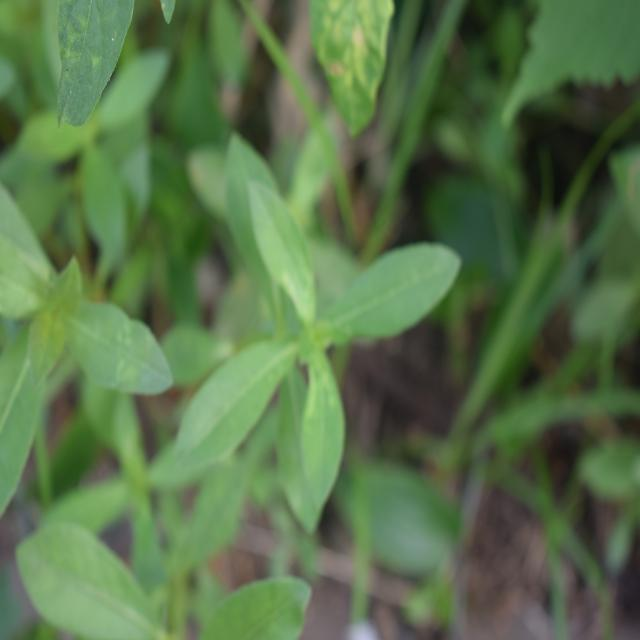Alligatorweed: (185, 168, 442, 508)
